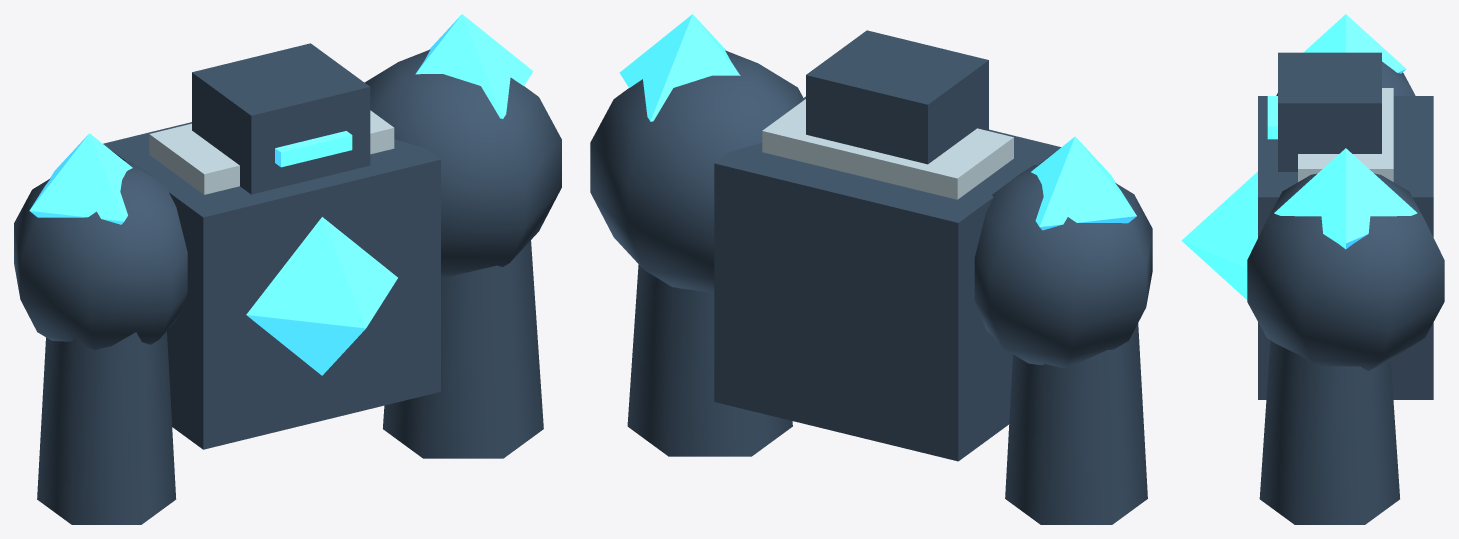
File: frost-golem.glb
3 views of the same model, side by side, from view 1: azimuth 30°, elevation 25°; view 2: azimuth 150°, elevation 25°; view 3: azimuth 270°, elevation 25° (orthographic). The views are drawn at different scales.
Parts seen in each view (by area): view 1: boss_frost_golem; view 2: boss_frost_golem; view 3: boss_frost_golem.
Boxes of the visible parts, left/top/right/bottom form: boss_frost_golem: left=14, top=14, right=561, bottom=524; boss_frost_golem: left=590, top=14, right=1152, bottom=524; boss_frost_golem: left=1181, top=14, right=1444, bottom=524.
Bounding box in the file's own units: 3.26 × 2.45 × 1.65.
